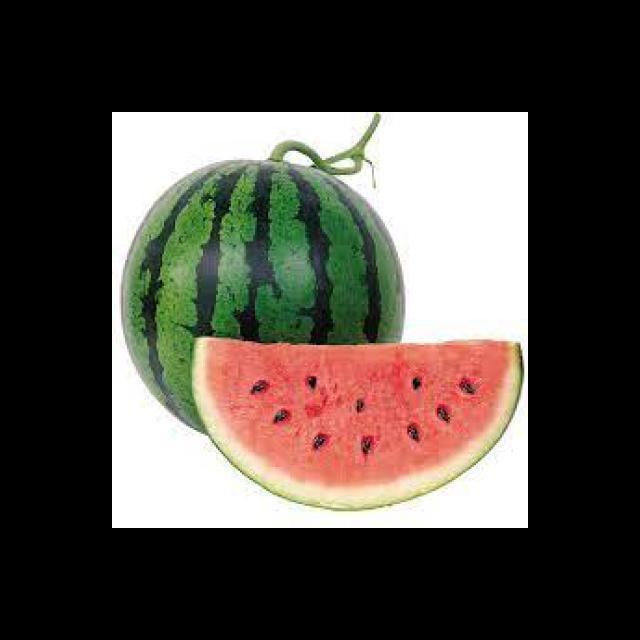watermelon: (120, 160, 408, 436), (188, 337, 523, 512)
